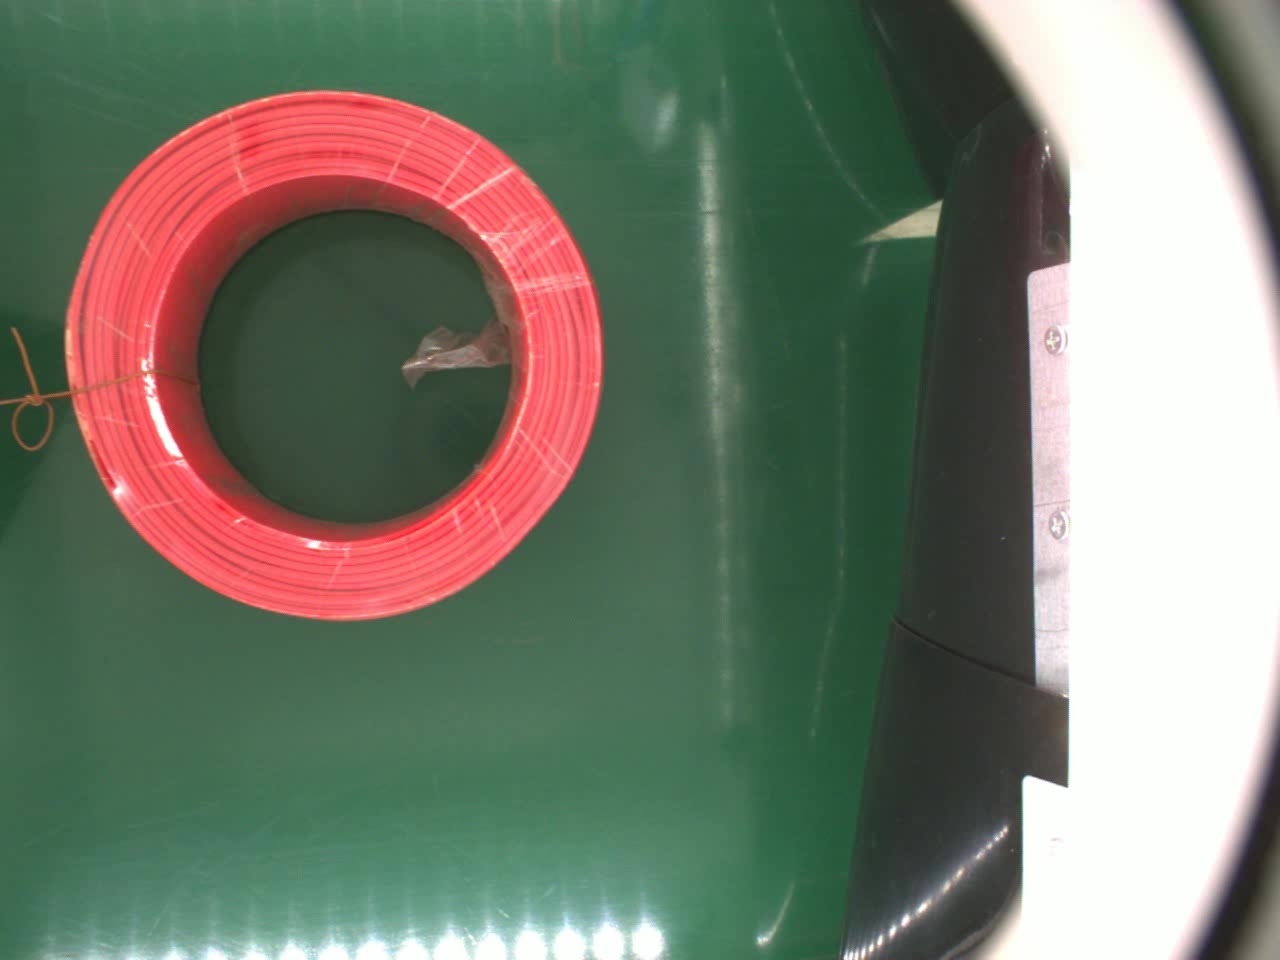red: (65, 80, 608, 626)
